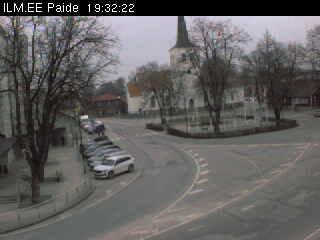car: (93, 153, 135, 180), (90, 151, 131, 174), (88, 144, 120, 163), (85, 141, 113, 159), (81, 135, 111, 151), (87, 123, 105, 134), (84, 120, 100, 130), (78, 114, 88, 127)
person: (60, 135, 65, 148)
